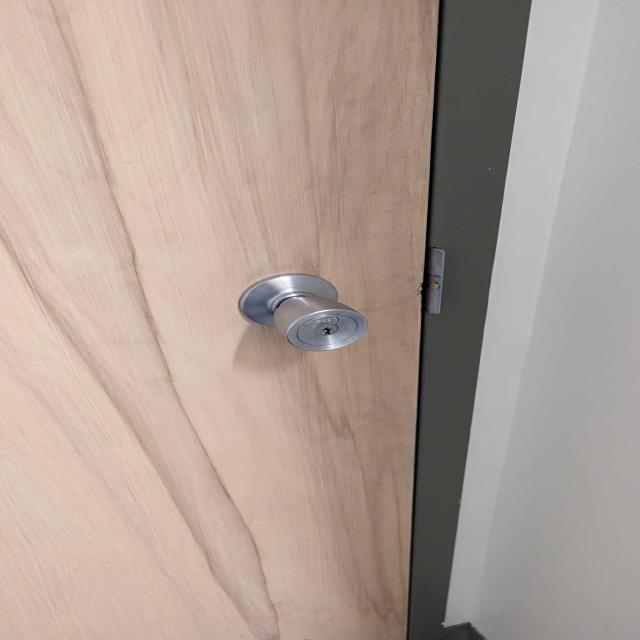door-knob: (238, 274, 369, 351)
